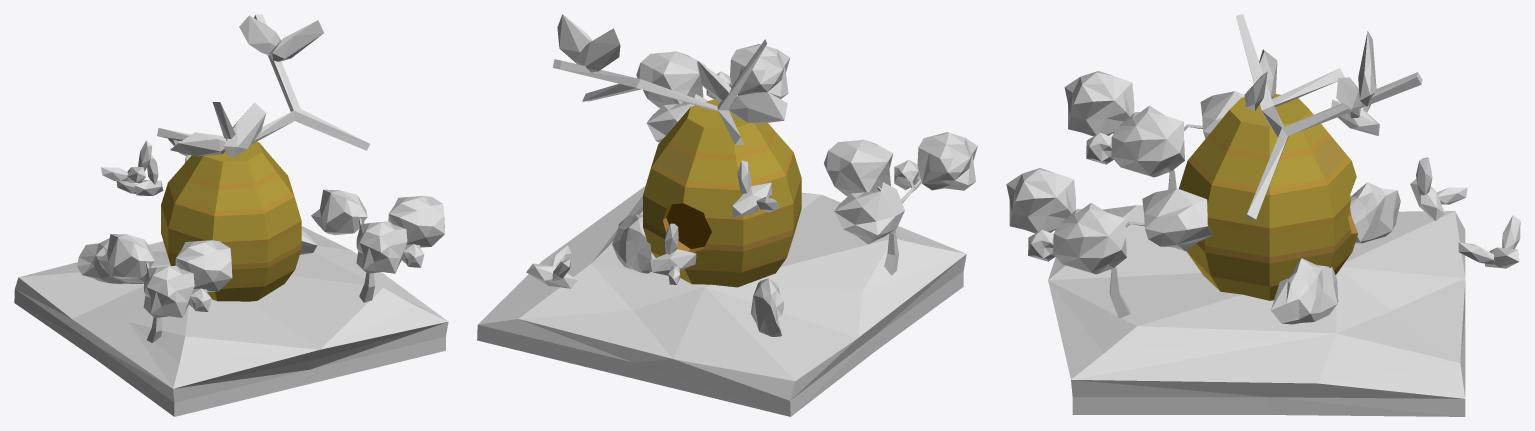
File: building_beefarm.fbx
3 renders of one model, left to right at view 1: azimuth 30°, elevation 25°; view 2: azimuth 150°, elevation 25°; view 3: azimuth 270°, elevation 25°, orthographic. The views are drawn at different scales.
Parts seen in each view (by area): view 1: bee 2; view 2: bee 2; view 3: bee 2.
Boxes of the visible parts, left/top/right/bottom form: bee 2: left=14, top=14, right=448, bottom=416; bee 2: left=477, top=14, right=977, bottom=416; bee 2: left=1006, top=14, right=1520, bottom=416.
Bounding box in the file's own units: 54.48 × 47.24 × 65.47.
